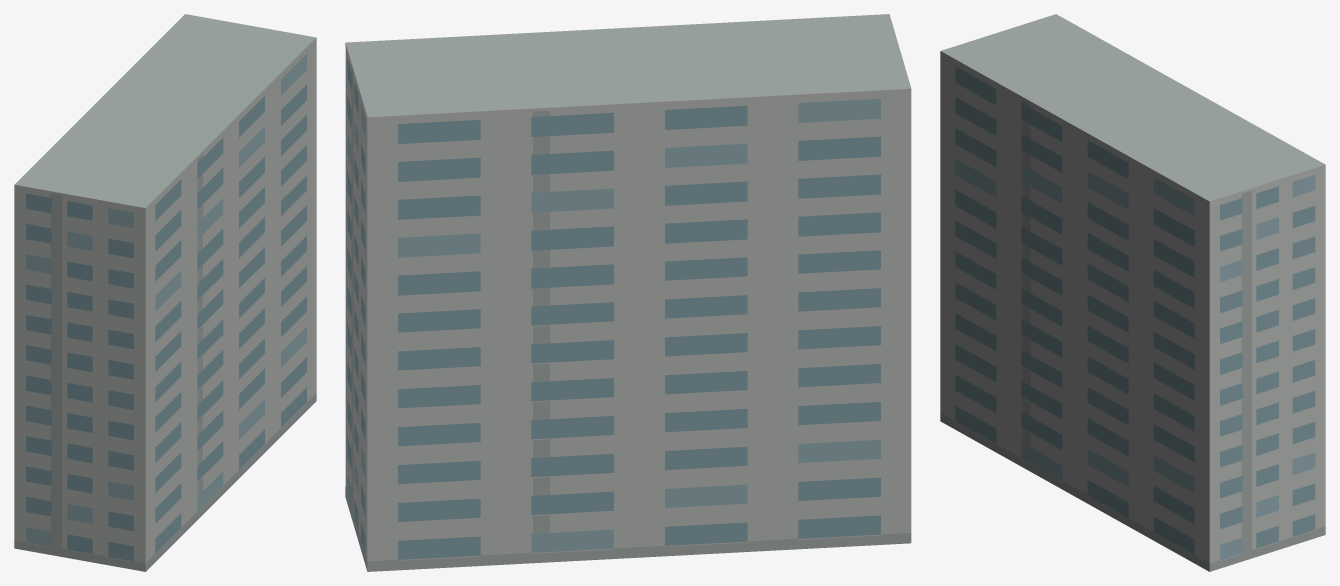
Rendered from residential-b622836b-a055-4018-9f69-40f5510231b2.glb.
3 renders of one model, left to right at view 1: azimuth 30°, elevation 25°; view 2: azimuth 150°, elevation 25°; view 3: azimuth 270°, elevation 25°, orthographic. The views are drawn at different scales.
Parts seen in each view (by area): view 1: residential-b622836b-a055-4018-9f69-40f5510231b2.tmp; view 2: residential-b622836b-a055-4018-9f69-40f5510231b2.tmp; view 3: residential-b622836b-a055-4018-9f69-40f5510231b2.tmp.
Part boxes in pixels (box(x1,y1,x2,y2)): residential-b622836b-a055-4018-9f69-40f5510231b2.tmp: box(14, 14, 316, 571); residential-b622836b-a055-4018-9f69-40f5510231b2.tmp: box(345, 14, 911, 571); residential-b622836b-a055-4018-9f69-40f5510231b2.tmp: box(940, 14, 1325, 571).
Bounding box in the file's own units: 38.01 × 35 × 32.98.
